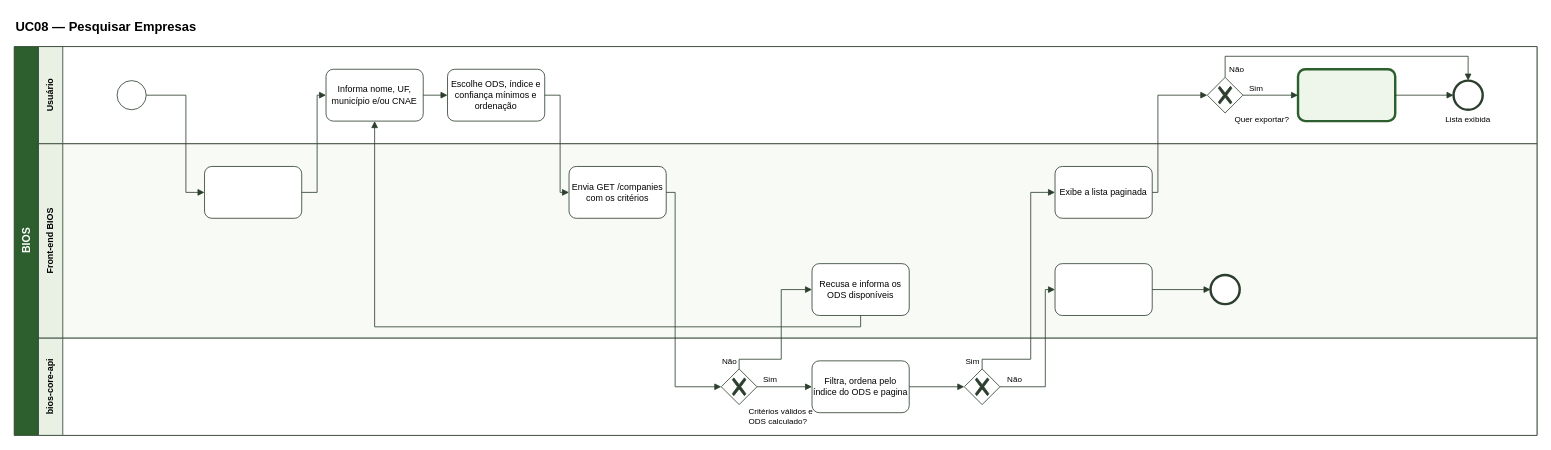
This 1551x450 diagram has some shape labels left out. Each missing label, with the centre of its shape:
Abre a pesquisa: [131,95]
Exportar Lista XLSX (UC09): [1346,95]
GET /ods: monta o seletor de ODS: [253,192]
Há resultados?: [981,386]
Informa que nenhuma empresa atende: [1103,289]
Sem resultados: [1225,289]
